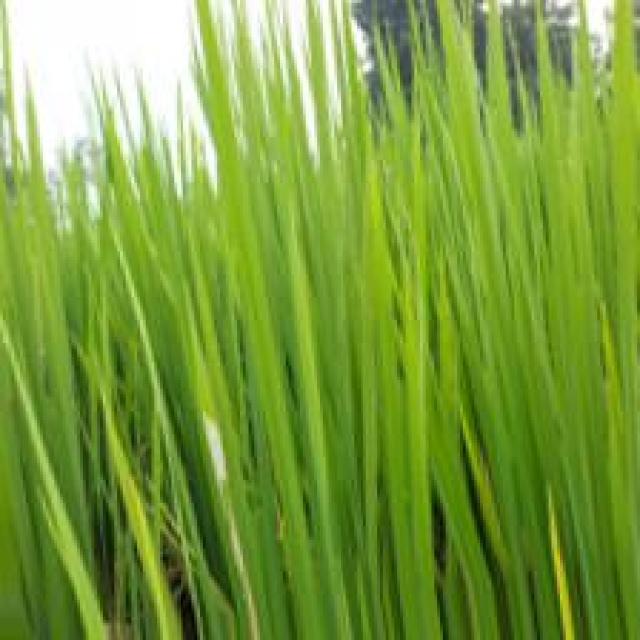HealthyLeaf: (379, 0, 640, 640), (195, 0, 437, 636)
